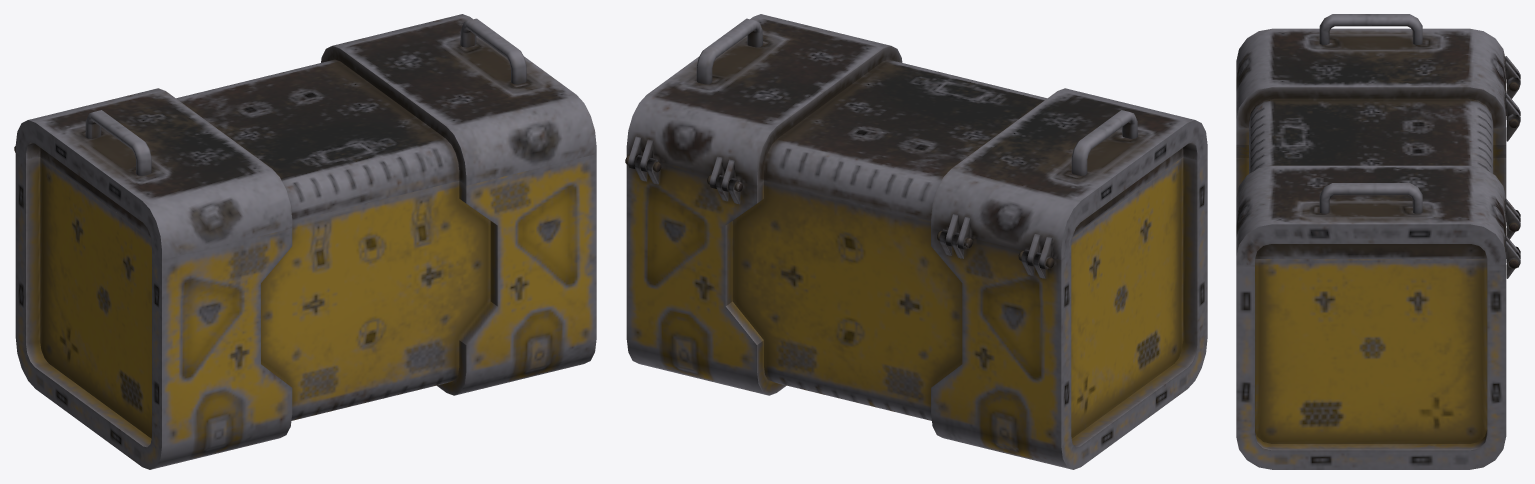
File: Power Core Container.fbx
3 renders of one model, left to right at view 1: azimuth 30°, elevation 25°; view 2: azimuth 150°, elevation 25°; view 3: azimuth 270°, elevation 25°, orthographic. The views are drawn at different scales.
Visible parts, largest first — view 1: Base, Cover; view 2: Base, Cover; view 3: Cover, Base.
Part boxes in pixels (<box>): Base: <box>14,146,596,469</box>; Cover: <box>15,14,596,259</box>; Base: <box>625,153,1207,469</box>; Cover: <box>626,14,1207,269</box>; Cover: <box>1236,14,1520,268</box>; Base: <box>1236,72,1520,469</box>.
Bounding box in the file's own units: 26.4 × 17.11 × 16.23.
